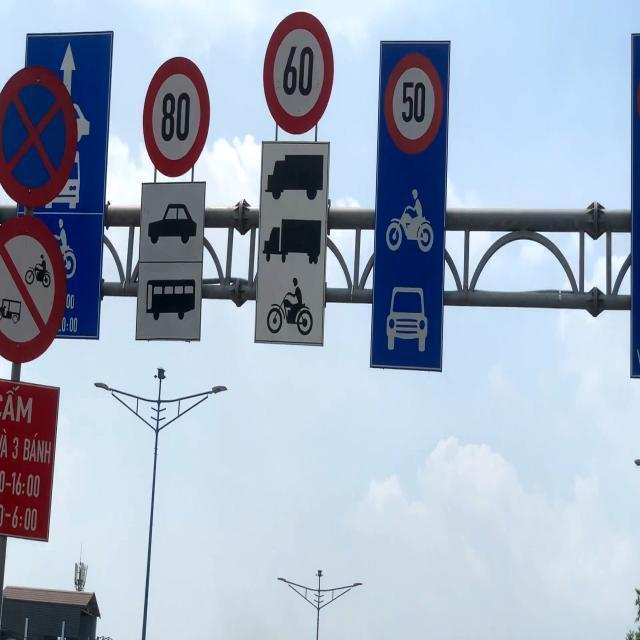127-toc-do-toi-da-50: (384, 52, 444, 152)
127-toc-do-toi-da-60: (262, 12, 334, 134)
127-toc-do-toi-da-80: (140, 57, 212, 179)
130-cam-dung-va-do-xe: (0, 66, 78, 210)
